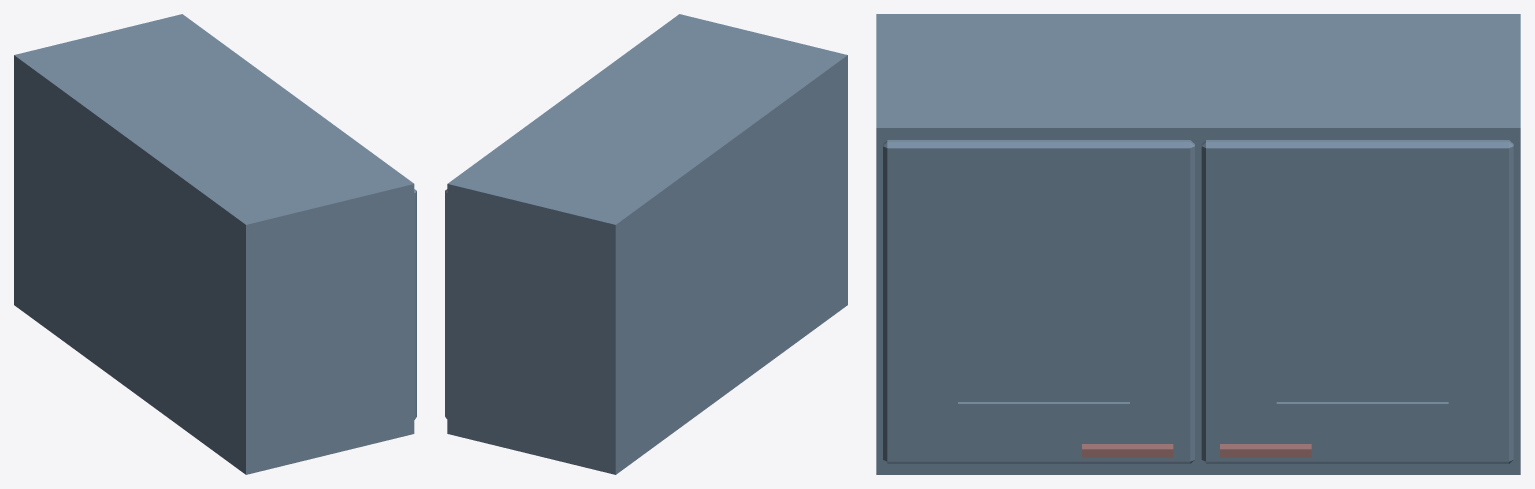
Rendered from CupBoard_TwoDoors.fbx.
3 renders of one model, left to right at view 1: azimuth 30°, elevation 25°; view 2: azimuth 150°, elevation 25°; view 3: azimuth 270°, elevation 25°, orthographic. The views are drawn at different scales.
Visible parts, largest first — view 1: pasted__pasted__pCube10, pasted__pasted__pasted__pasted__pasted__pasted__pasted__past; view 2: pasted__pasted__pCube10, pasted__pasted__pasted__pasted__pasted__pasted__pasted__pCub; view 3: pasted__pasted__pasted__pasted__pasted__pasted__pasted__pCub (×2), pasted__pasted__pasted__pasted__pasted__pasted__pasted__past (×2), pasted__pasted__pCube10.
Boxes of the visible parts, <box> form: pasted__pasted__pCube10: <box>14,14,414,474</box>; pasted__pasted__pasted__pasted__pasted__pasted__pasted__past: <box>414,189,416,419</box>; pasted__pasted__pCube10: <box>447,14,847,474</box>; pasted__pasted__pasted__pasted__pasted__pasted__pasted__pCub: <box>445,189,447,418</box>; pasted__pasted__pasted__pasted__pasted__pasted__pasted__pCub (×2): <box>1201,140,1513,463</box>; pasted__pasted__pasted__pasted__pasted__pasted__pasted__past (×2): <box>883,140,1194,463</box>; pasted__pasted__pCube10: <box>876,14,1520,474</box>.
Size of the model in its own units: 3.12 by 4.08 by 6.86.
